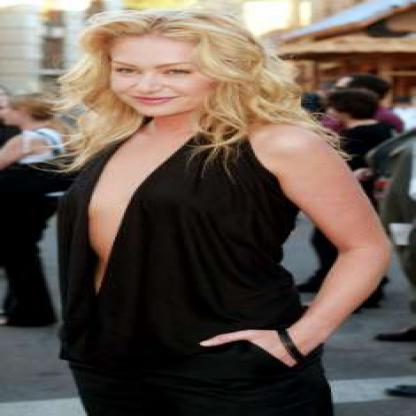face: (104, 22, 229, 120)
